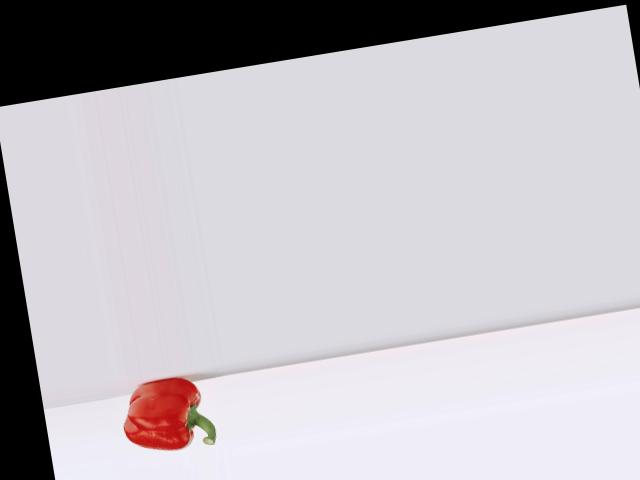bell_pepper: (112, 367, 226, 462)
